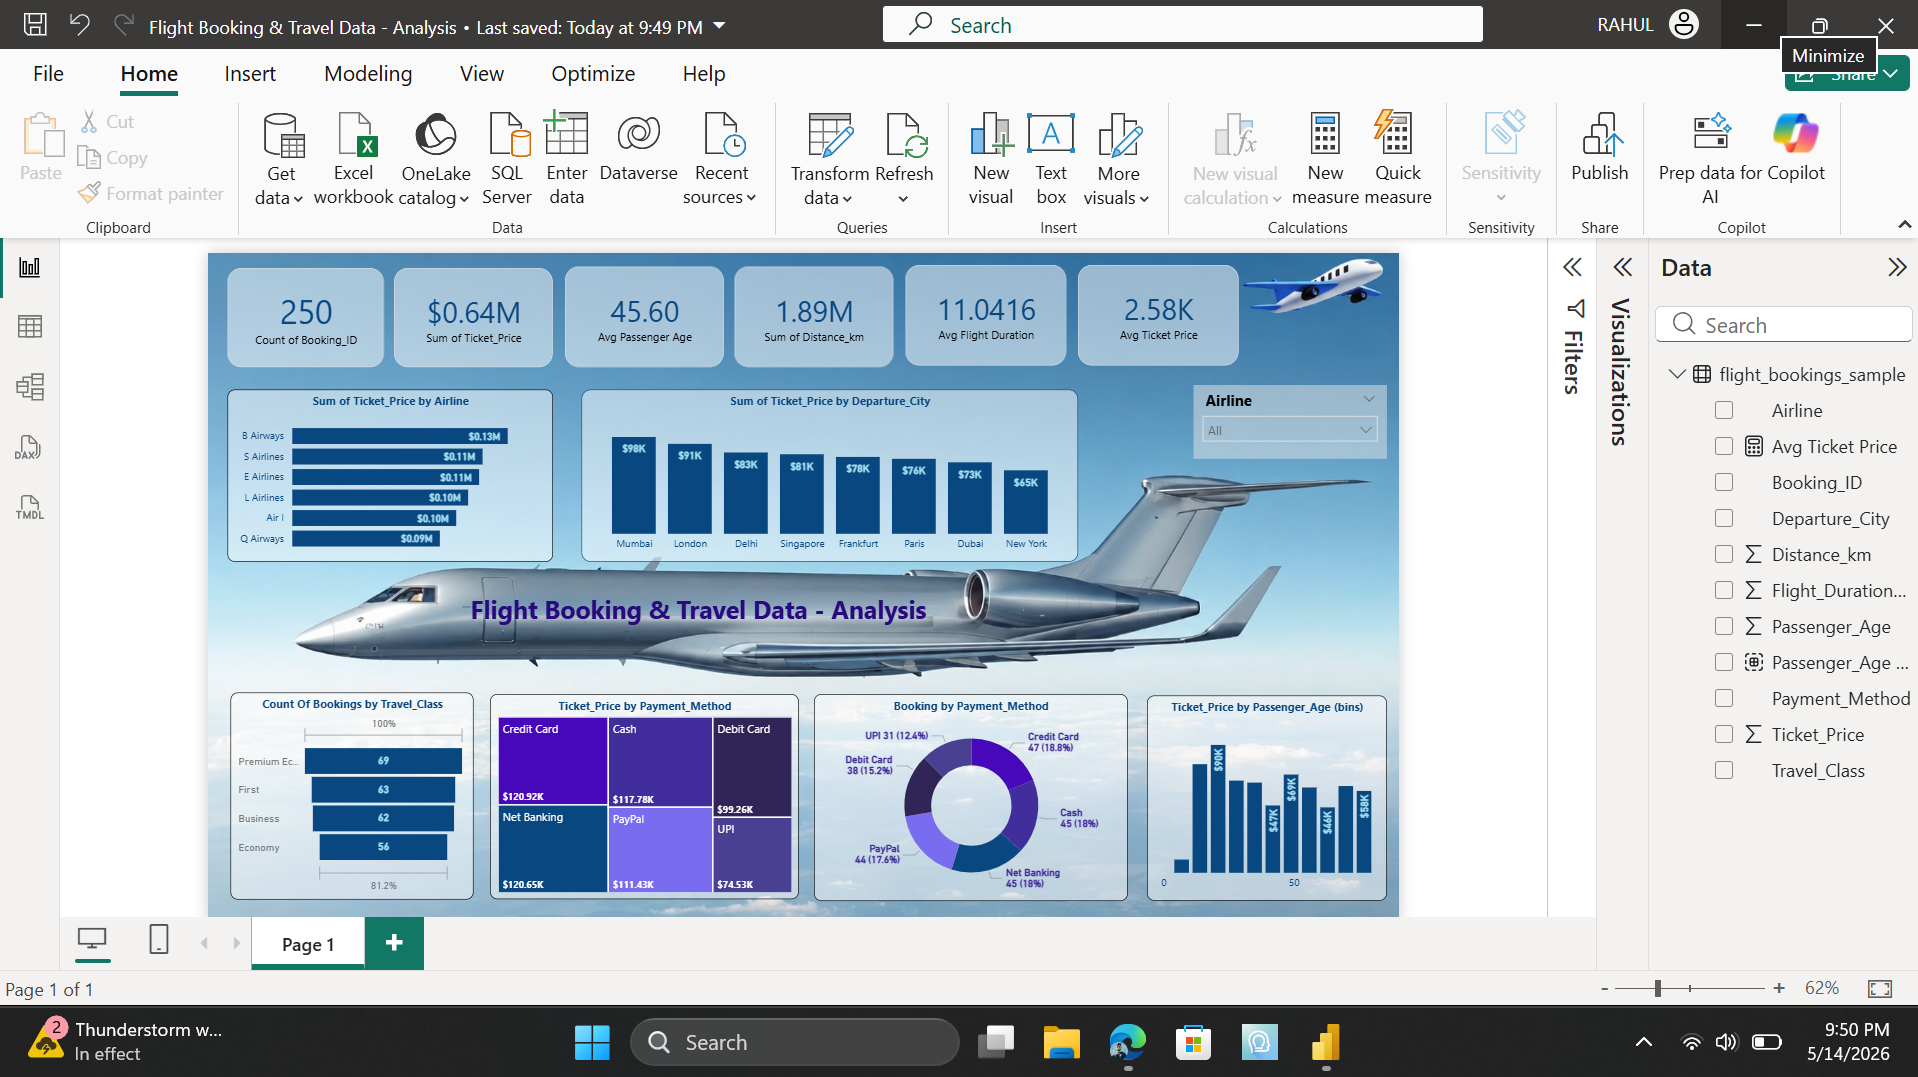

The dashboard page shown, as its layout file describes it:
{"tool":"powerbi","page":{"name":"Page 1","canvas":[1280,720],"ordinal":0},"visuals":[{"type":"textbox","box":[104.8,359.7,845.2,108.1],"z":0},{"type":"LaconicCardFreeC4A74023FBD644529F9068B327CF4BF9","fields":{"mainMeasure":["Count(flight_bookings_sample.Booking_ID)"]},"box":[21,16.1,167.7,106.5],"z":1000},{"type":"LaconicCardFreeC4A74023FBD644529F9068B327CF4BF9","fields":{"mainMeasure":["Sum(flight_bookings_sample.Ticket_Price)"]},"box":[200,16.1,171,106.5],"z":2000},{"type":"LaconicCardFreeC4A74023FBD644529F9068B327CF4BF9","fields":{"mainMeasure":["Sum(flight_bookings_sample.Distance_km)"]},"box":[566.1,14.5,171,108.1],"z":3000},{"type":"LaconicCardFreeC4A74023FBD644529F9068B327CF4BF9","fields":{"mainMeasure":["Avg(flight_bookings_sample.Passenger_Age)"]},"box":[383.9,14.5,171,108.1],"z":4000},{"type":"LaconicCardFreeC4A74023FBD644529F9068B327CF4BF9","fields":{"mainMeasure":["Avg(flight_bookings_sample.Flight_Duration_hr)"]},"box":[750,12.9,172.6,108.1],"z":5000},{"type":"LaconicCardFreeC4A74023FBD644529F9068B327CF4BF9","fields":{"mainMeasure":["flight_bookings_sample.Avg Ticket Price"]},"box":[935.5,12.9,172.6,108.1],"z":6000},{"type":"clusteredBarChart","fields":{"Category":["flight_bookings_sample.Airline"],"Y":["Sum(flight_bookings_sample.Ticket_Price)"]},"box":[21,146.8,350,185.5],"z":7000},{"type":"columnChart","fields":{"Y":["Sum(flight_bookings_sample.Ticket_Price)"],"Category":["flight_bookings_sample.Departure_City"]},"box":[401.6,146.8,533.9,185.5],"z":8000},{"type":"funnel","fields":{"Category":["flight_bookings_sample.Travel_Class"],"Y":["CountNonNull(flight_bookings_sample.Booking_ID)"]},"box":[24.2,472.6,261.3,222.6],"z":9000},{"type":"treemap","fields":{"Group":["flight_bookings_sample.Payment_Method"],"Values":["Sum(flight_bookings_sample.Ticket_Price)"]},"box":[303.2,474.2,332.3,221],"z":10000},{"type":"donutChart","fields":{"Category":["flight_bookings_sample.Payment_Method"],"Y":["CountNonNull(flight_bookings_sample.Booking_ID)"]},"box":[651.6,474.2,337.1,222.6],"z":11000},{"type":"columnChart","fields":{"Y":["Sum(flight_bookings_sample.Ticket_Price)"],"Category":["flight_bookings_sample.Passenger_Age (bins)"]},"box":[1009.7,475.8,258.1,221],"z":12000},{"type":"LaconicCardFreeC4A74023FBD644529F9068B327CF4BF9","fields":{"mainMeasure":["flight_bookings_sample.Avg Ticket Price"]},"box":[2079,166.1,172.6,108.1],"z":13000},{"type":"slicer","fields":{"Values":["flight_bookings_sample.Airline"]},"box":[1059.7,141.9,208.1,79],"z":14000}]}

Visuals, with their boxes on the page's 1280x720 design canvas (x1, y1, x2, y2). These are canvas units, not pixel positions in the 1918x1077 screenshot, which may show the page scaled, cropped or inside an application window:
textbox: box=[105, 360, 950, 468]
LaconicCardFreeC4A74023FBD644529F9068B327CF4BF9 - Count(flight_bookings_sample.Booking_ID): box=[21, 16, 189, 123]
LaconicCardFreeC4A74023FBD644529F9068B327CF4BF9 - Sum(flight_bookings_sample.Ticket_Price): box=[200, 16, 371, 123]
LaconicCardFreeC4A74023FBD644529F9068B327CF4BF9 - Sum(flight_bookings_sample.Distance_km): box=[566, 14, 737, 123]
LaconicCardFreeC4A74023FBD644529F9068B327CF4BF9 - Avg(flight_bookings_sample.Passenger_Age): box=[384, 14, 555, 123]
LaconicCardFreeC4A74023FBD644529F9068B327CF4BF9 - Avg(flight_bookings_sample.Flight_Duration_hr): box=[750, 13, 923, 121]
LaconicCardFreeC4A74023FBD644529F9068B327CF4BF9 - flight_bookings_sample.Avg Ticket Price: box=[936, 13, 1108, 121]
clusteredBarChart - flight_bookings_sample.Airline x Sum(flight_bookings_sample.Ticket_Price): box=[21, 147, 371, 332]
columnChart - Sum(flight_bookings_sample.Ticket_Price) x flight_bookings_sample.Departure_City: box=[402, 147, 936, 332]
funnel - flight_bookings_sample.Travel_Class x CountNonNull(flight_bookings_sample.Booking_ID): box=[24, 473, 286, 695]
treemap - flight_bookings_sample.Payment_Method x Sum(flight_bookings_sample.Ticket_Price): box=[303, 474, 636, 695]
donutChart - flight_bookings_sample.Payment_Method x CountNonNull(flight_bookings_sample.Booking_ID): box=[652, 474, 989, 697]
columnChart - Sum(flight_bookings_sample.Ticket_Price) x flight_bookings_sample.Passenger_Age (bins): box=[1010, 476, 1268, 697]
LaconicCardFreeC4A74023FBD644529F9068B327CF4BF9 - flight_bookings_sample.Avg Ticket Price: box=[2079, 166, 2252, 274]
slicer - flight_bookings_sample.Airline: box=[1060, 142, 1268, 221]
